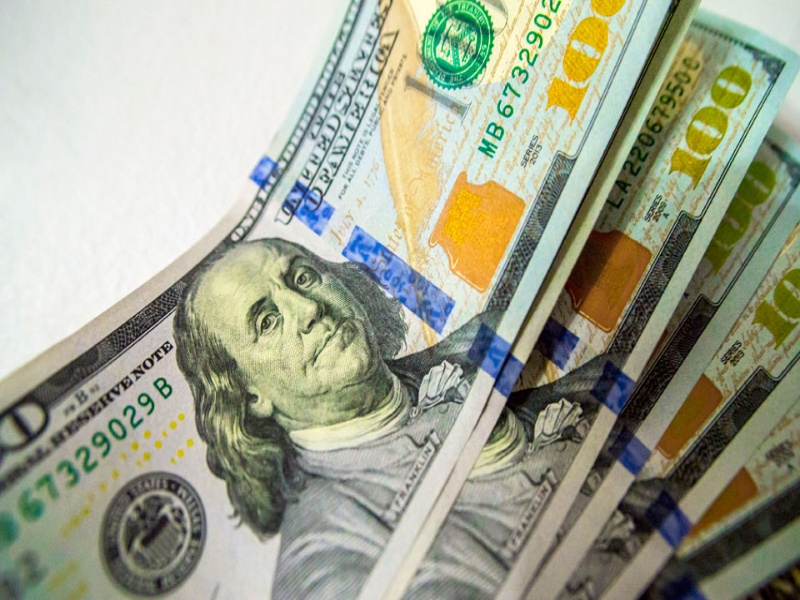cash: (1, 1, 800, 600)
